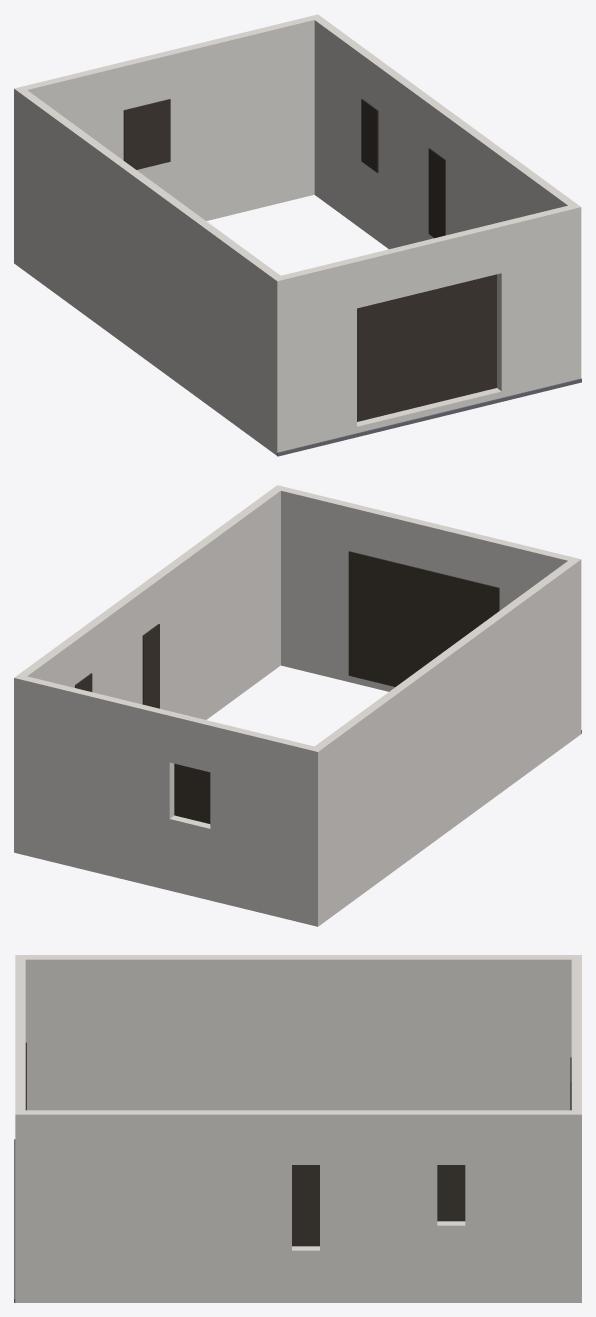
File: SM_Floor_NarrowUpperBalconyEndR_White_546_Back_01.gltf
3 renders of one model, top to bottom at view 1: azimuth 30°, elevation 25°; view 2: azimuth 150°, elevation 25°; view 3: azimuth 270°, elevation 25°, orthographic. The views are drawn at different scales.
Parts seen in each view (by area): view 1: SM_Floor_NarrowUpperBalconyEndR_White_546_Back_01; view 2: SM_Floor_NarrowUpperBalconyEndR_White_546_Back_01; view 3: SM_Floor_NarrowUpperBalconyEndR_White_546_Back_01.
Boxes of the visible parts, <box> form: SM_Floor_NarrowUpperBalconyEndR_White_546_Back_01: <box>14,14,581,456</box>; SM_Floor_NarrowUpperBalconyEndR_White_546_Back_01: <box>14,485,581,926</box>; SM_Floor_NarrowUpperBalconyEndR_White_546_Back_01: <box>14,955,581,1302</box>.
Size of the model in its own units: 5.46 by 3 by 8.21.
1 material, 1 textured.
